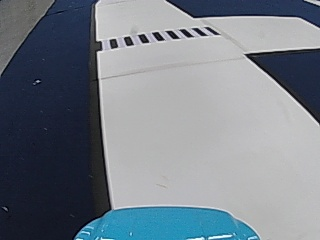CrossWalk: (102, 25, 216, 49)
